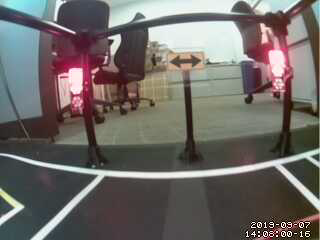Left_Right_sign: (69, 67, 84, 110), (268, 48, 282, 92)
